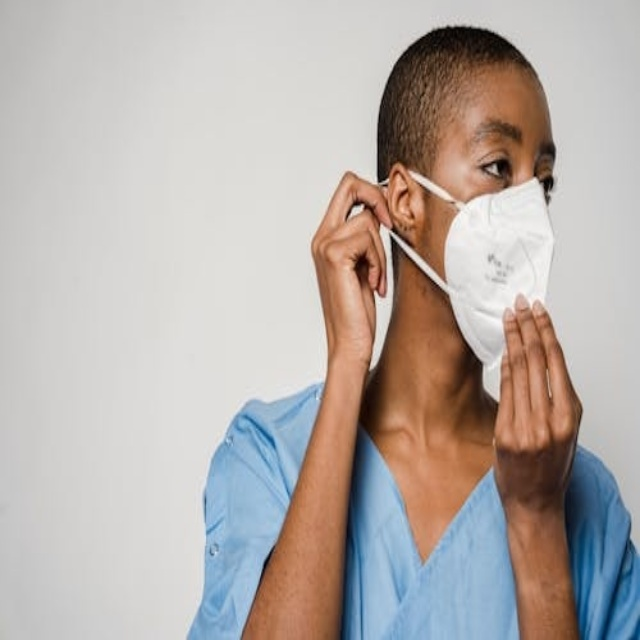Mascara: (380, 168, 555, 401)
Sin_gafas: (454, 138, 558, 196)
Sin_guantes: (486, 284, 585, 509), (303, 165, 389, 382)
